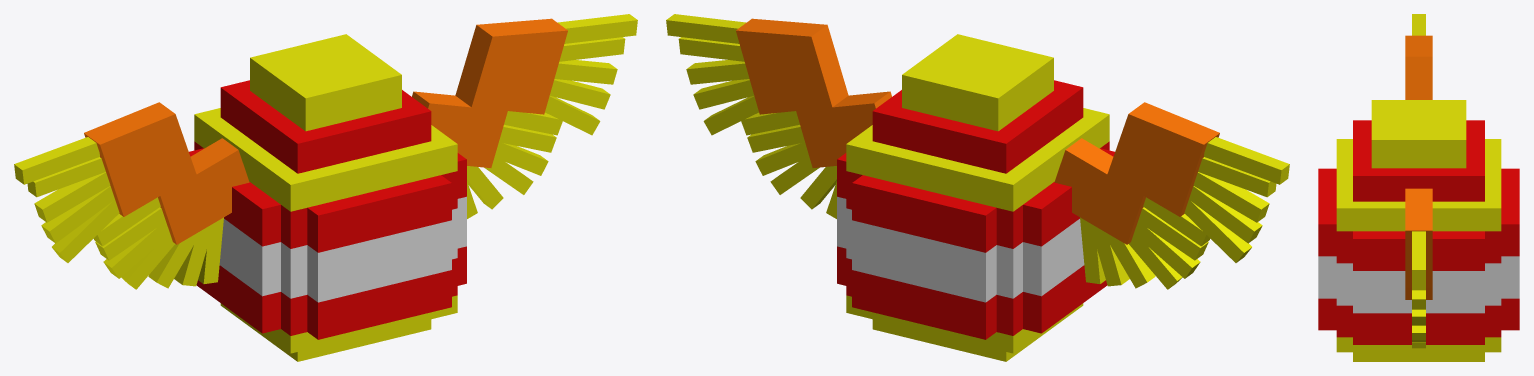
Rendered from 47.Phoenix.fbx.
3 views of the same model, side by side, from view 1: azimuth 30°, elevation 25°; view 2: azimuth 150°, elevation 25°; view 3: azimuth 270°, elevation 25° (orthographic). The views are drawn at different scales.
Parts seen in each view (by area): view 1: Phoenix; view 2: Phoenix; view 3: Phoenix.
Boxes of the visible parts, bbox=[...] form: Phoenix: bbox=[14, 14, 637, 361]; Phoenix: bbox=[666, 14, 1289, 361]; Phoenix: bbox=[1318, 14, 1519, 361].
Size of the model in its own units: 8.69 by 3.39 by 2.89.
